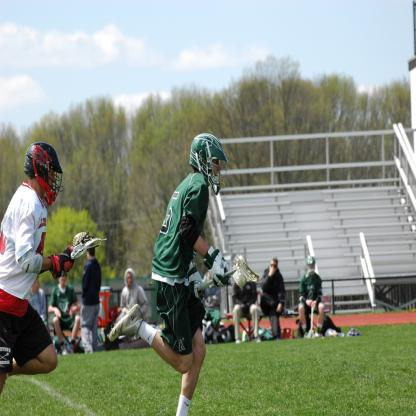Helmet: (186, 136, 230, 200), (21, 144, 56, 208), (306, 254, 316, 262)
